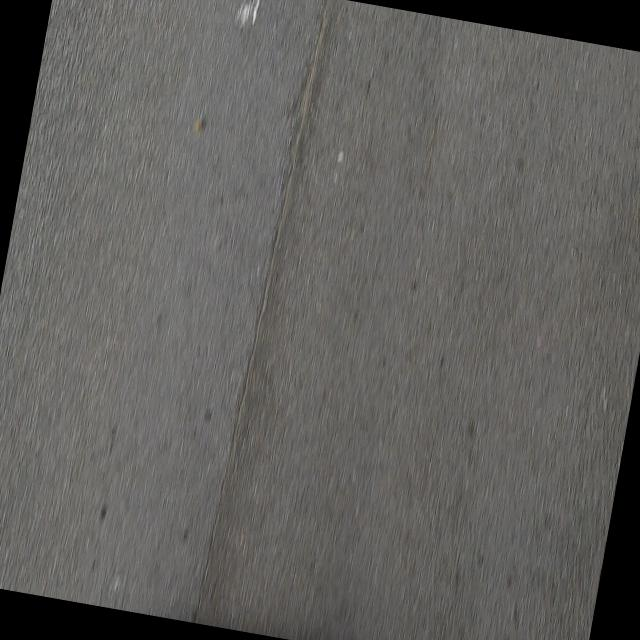Retak-Memanjang: (236, 29, 323, 406)
